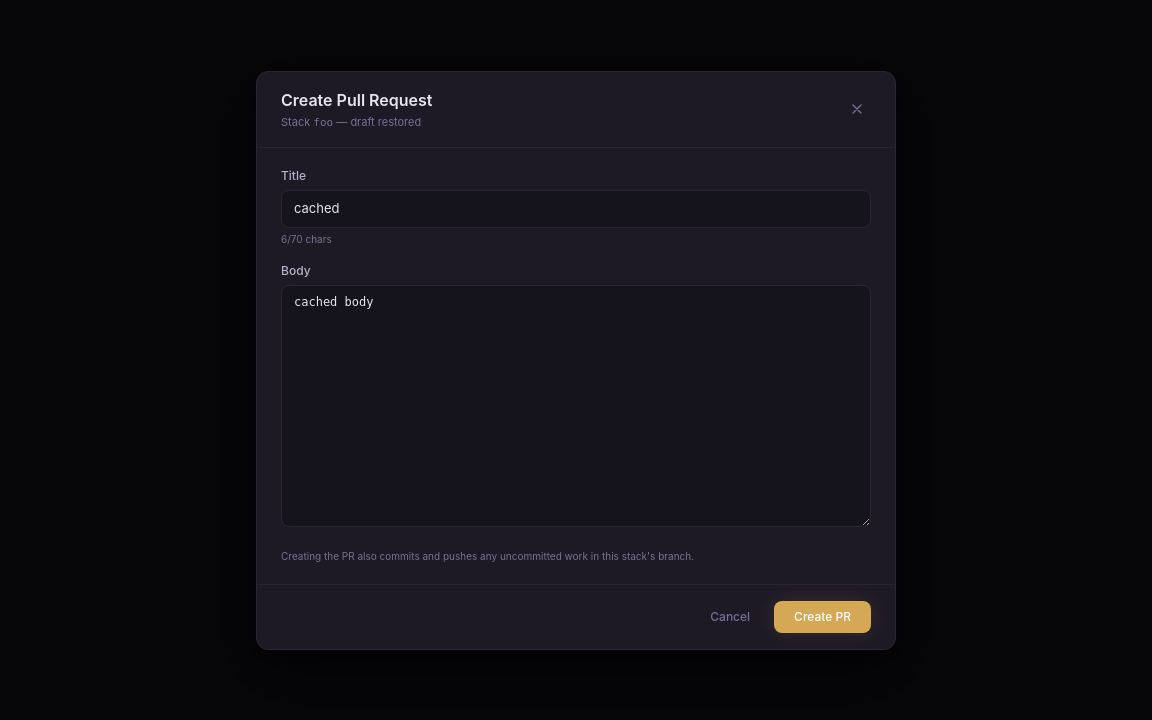
Test: CreatePRDialog › draft cache (#320) › does NOT clear the cache when pr.create fails
Click the button with test id "pr-create" at (823, 616), box [774,600,871,632]
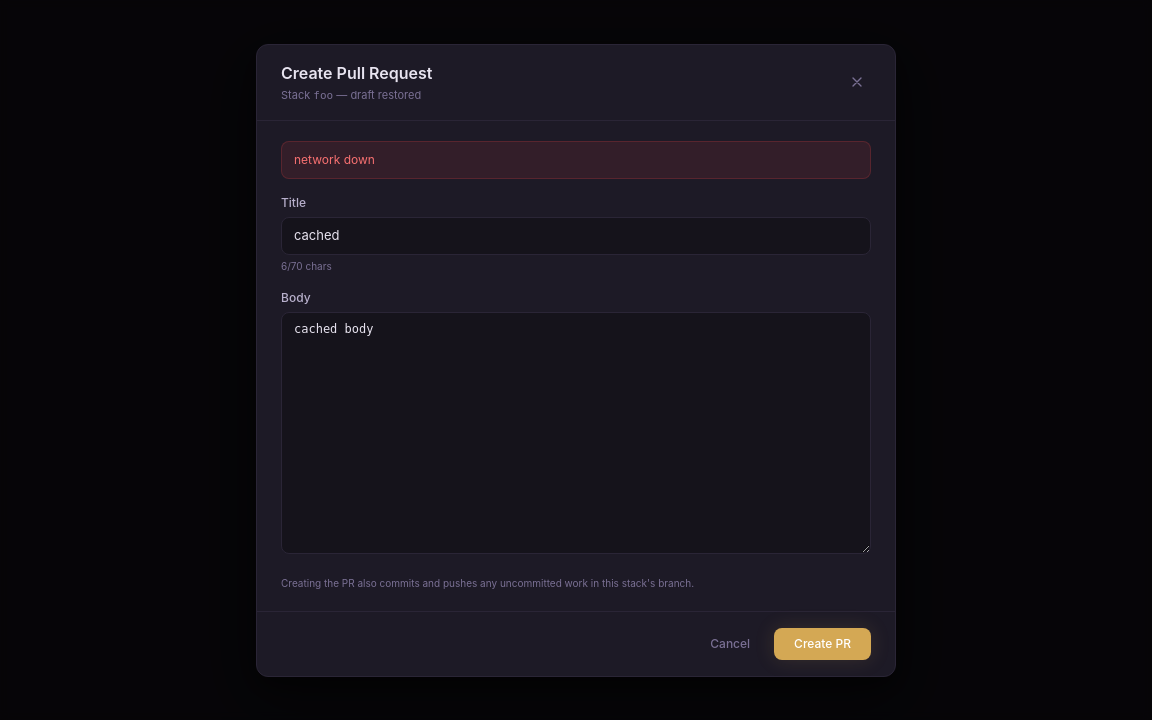
Expected: the text with test id "pr-error" reads "network down", [294,152,375,167]
